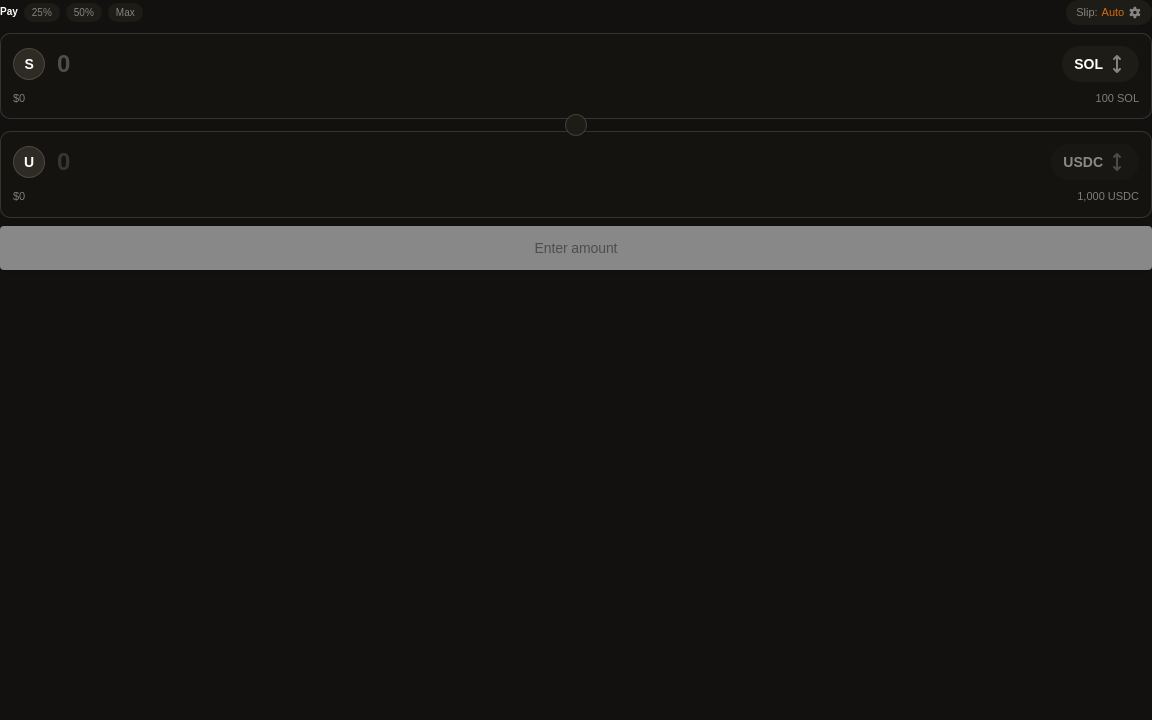
SwapWidget › Slippage Popover › should use custom presets when provided
Click the button with aria-label "slippage tolerance" at [1109, 12], box 1066,0 -> 1151,24
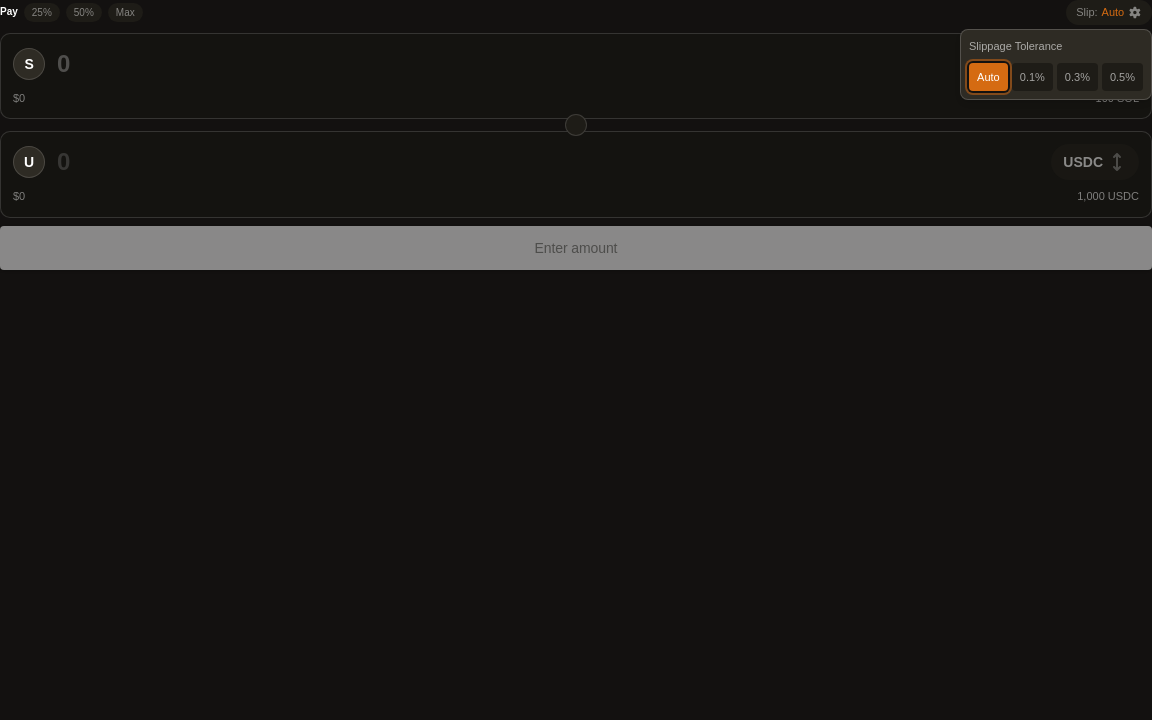
Expected: the radio button labelled "0.1%" is shown, 1012,62 -> 1053,91
Expected: the radio button labelled "0.3%" is shown, 1057,62 -> 1098,91
Expected: the radio button labelled "0.5%" is shown, 1102,62 -> 1143,91
